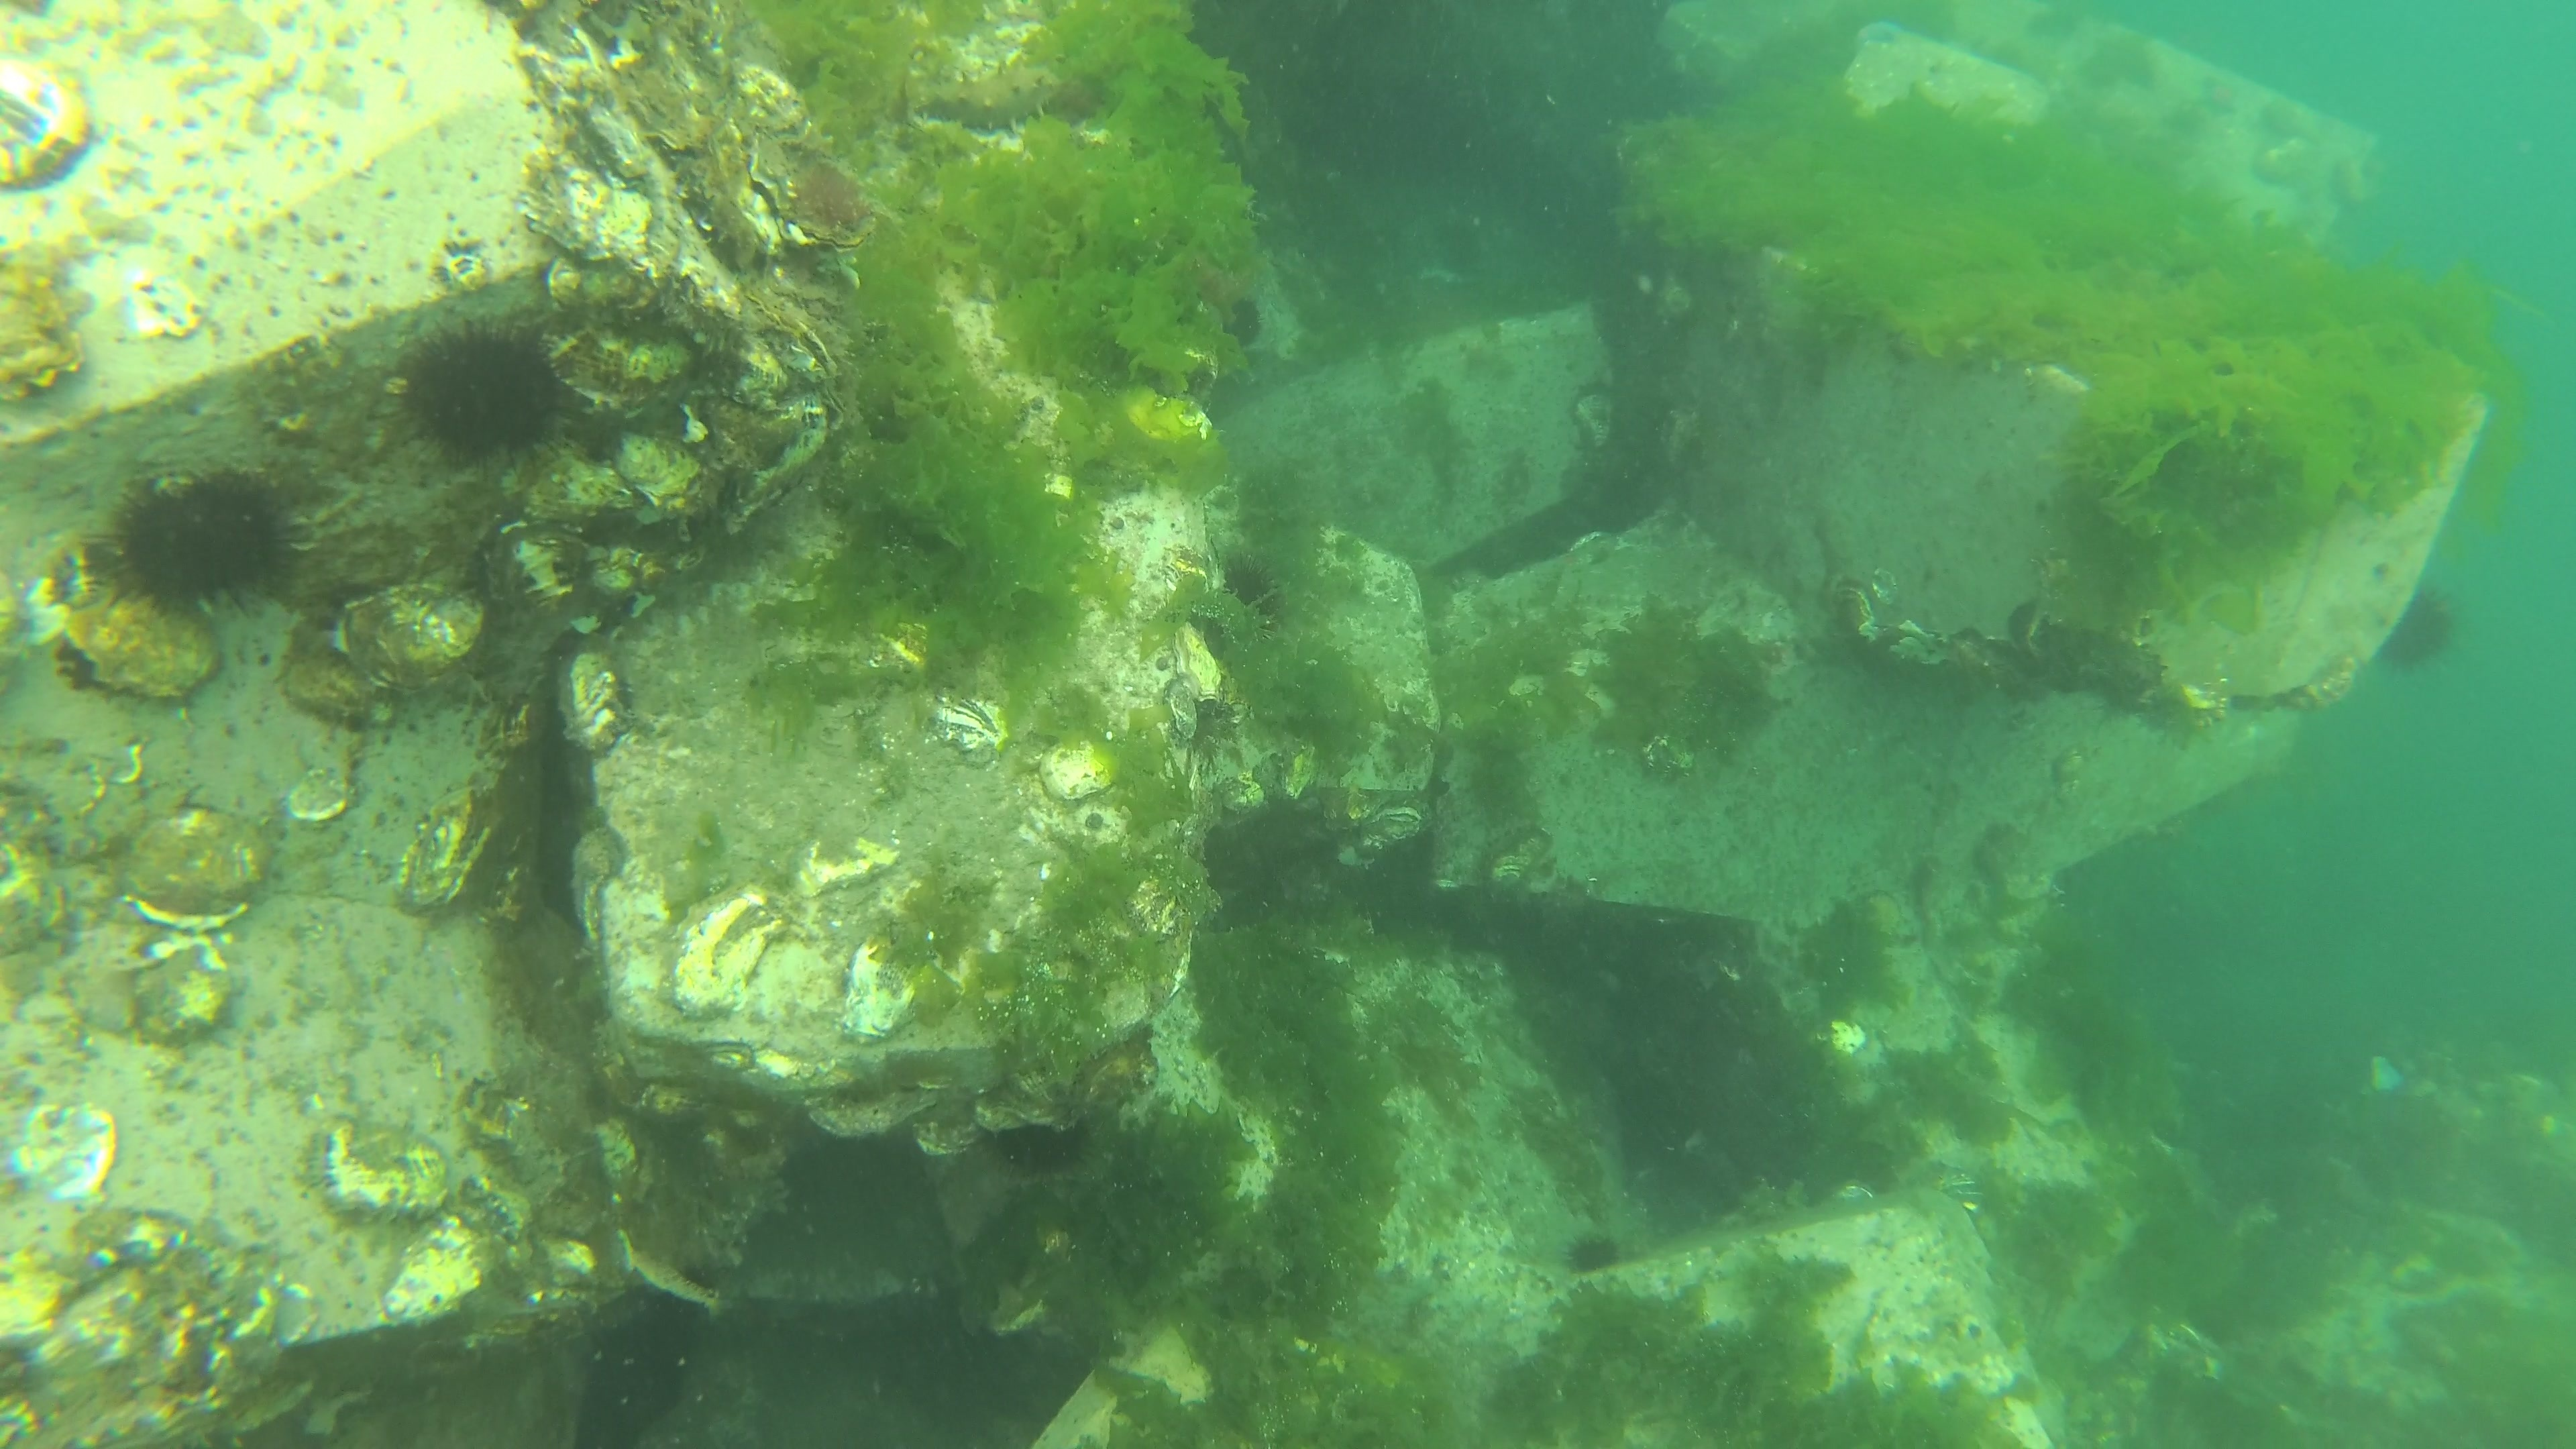echinus: (375, 315, 584, 479), (81, 469, 297, 623), (2380, 587, 2461, 678), (994, 1120, 1097, 1189), (1219, 548, 1283, 626), (1562, 1235, 1622, 1274), (1228, 294, 1267, 349)
